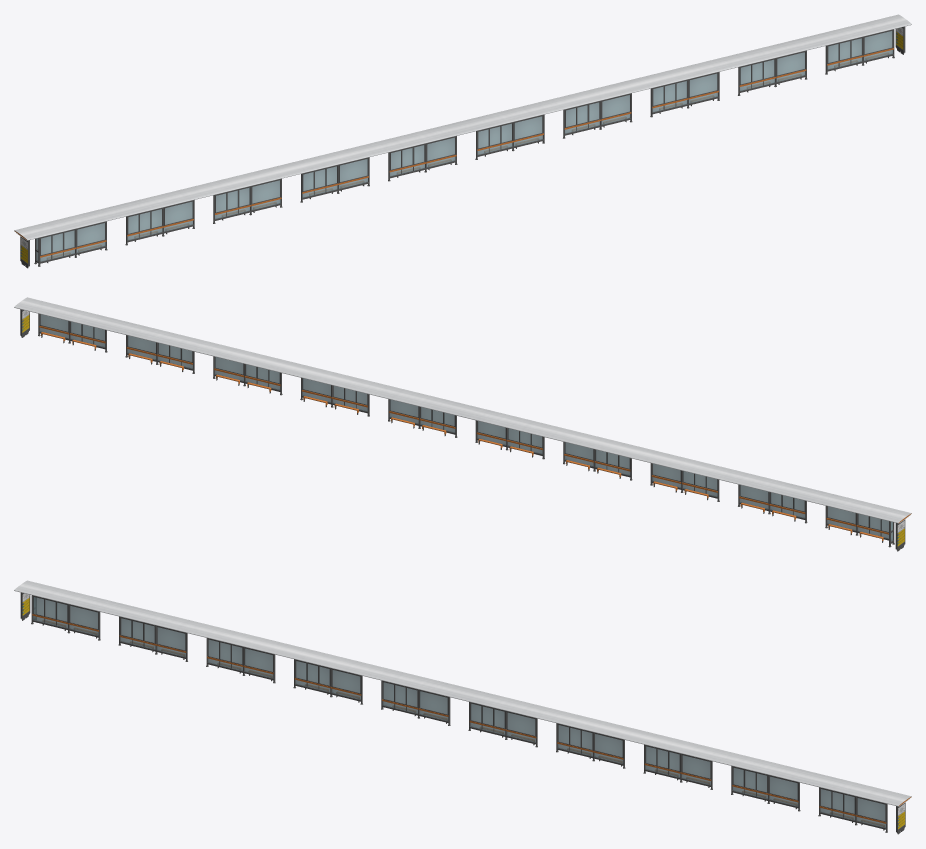
File: Bus_Stop_5.fbx
The picture shows the model from 3 angles, top to bottom: view 1: azimuth 30°, elevation 25°; view 2: azimuth 150°, elevation 25°; view 3: azimuth 330°, elevation 25°; orthographic projection.
Visible parts, largest first — view 1: Bus_Stop_5; view 2: Bus_Stop_5; view 3: Bus_Stop_5.
Boxes of the visible parts, box(x1,y1,x2,y2) form: Bus_Stop_5: box(14, 14, 911, 268); Bus_Stop_5: box(14, 297, 911, 551); Bus_Stop_5: box(14, 580, 911, 834).
Bounding box in the file's own units: 76 × 2.7 × 2.
Materials: 5 (3 with a texture image).
